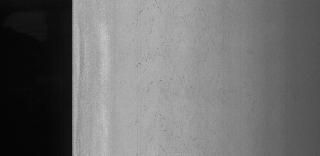silk spot: (128, 2, 216, 148)
